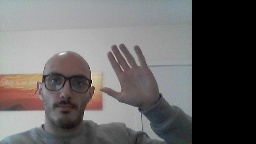Mano_aperta: (96, 42, 163, 110)
